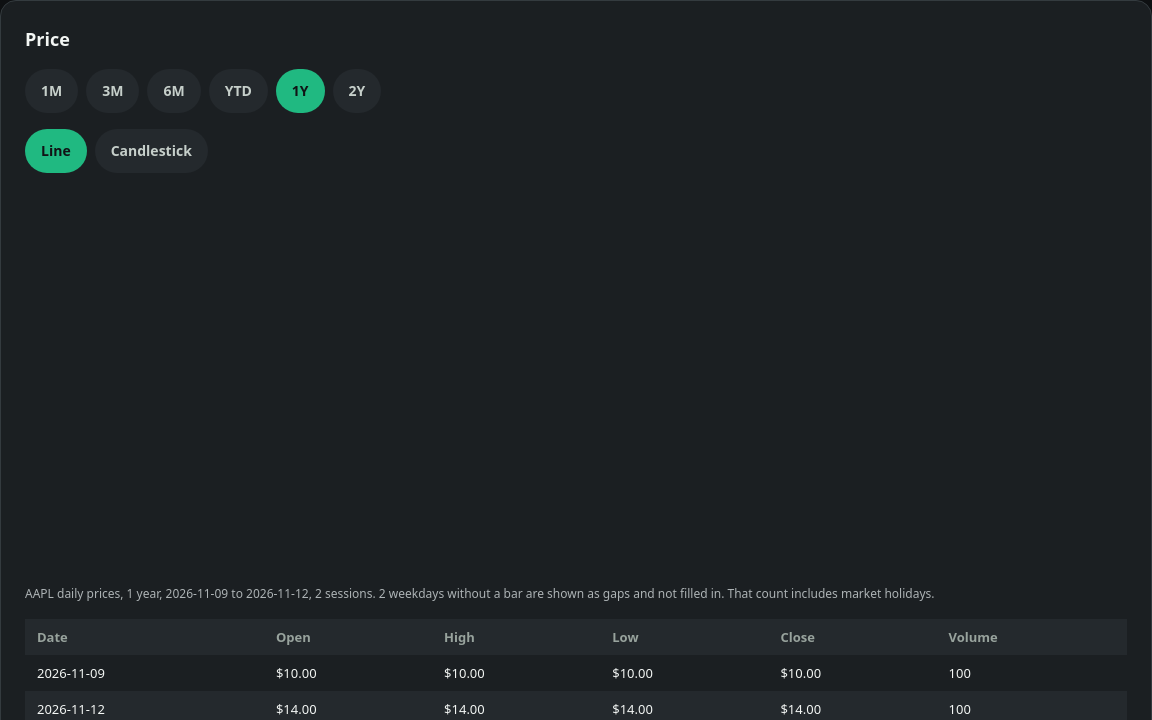
Scenario: PriceChart › draws weekdays without a bar as gaps and keeps range controls reachable
Check: the text "2 weekdays without a bar are shown as gaps and not filled in. That count includes market holidays." is shown, box left=25, top=585, right=934, bottom=602
Check: the column heading "2026-11-09" is shown, box left=25, top=655, right=264, bottom=691
Click the button "Candlestick" at (151, 151), box left=95, top=129, right=208, bottom=173
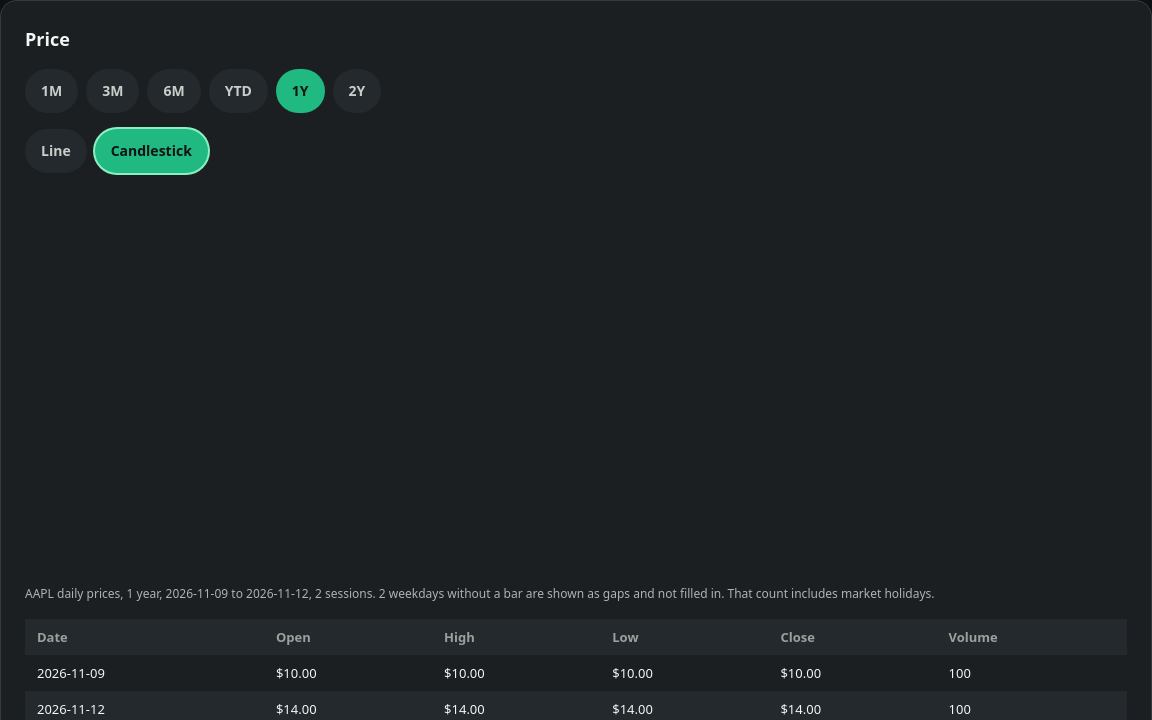
Check: the button "Candlestick" is pressed, box left=95, top=129, right=208, bottom=173
Check: the button "Line" is not pressed, box left=25, top=129, right=87, bottom=173
